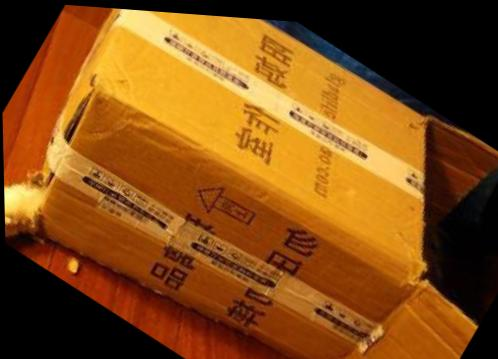cardboard: (3, 6, 497, 358)
